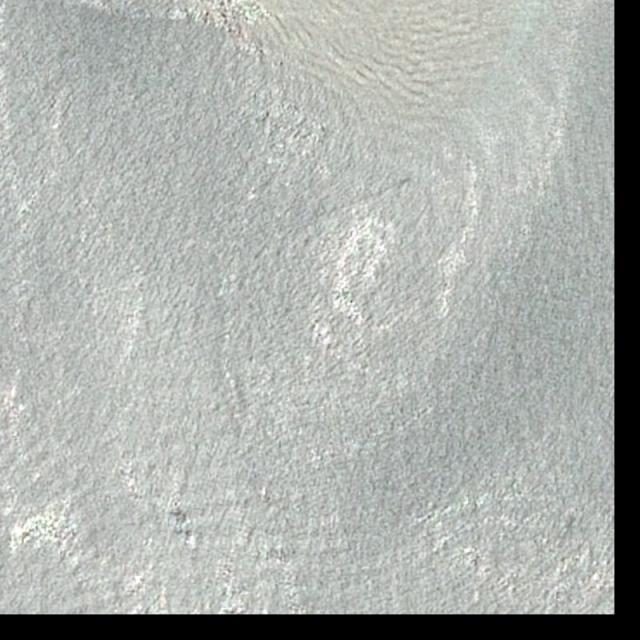ship: (400, 176, 410, 185)
